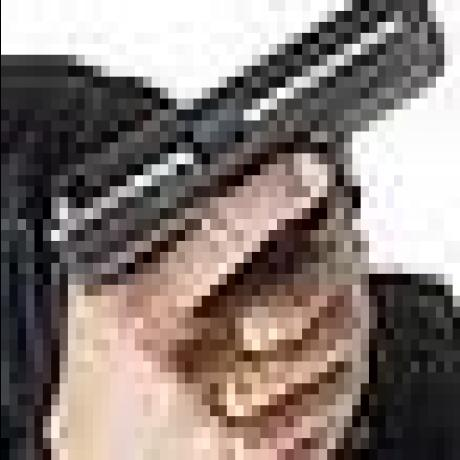1: (46, 146, 373, 460)
weapon: (42, 0, 443, 298)
